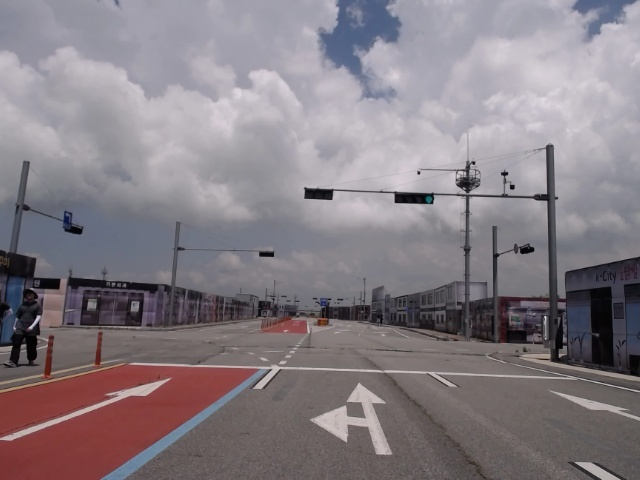straight_green_4: (393, 193, 434, 205)
